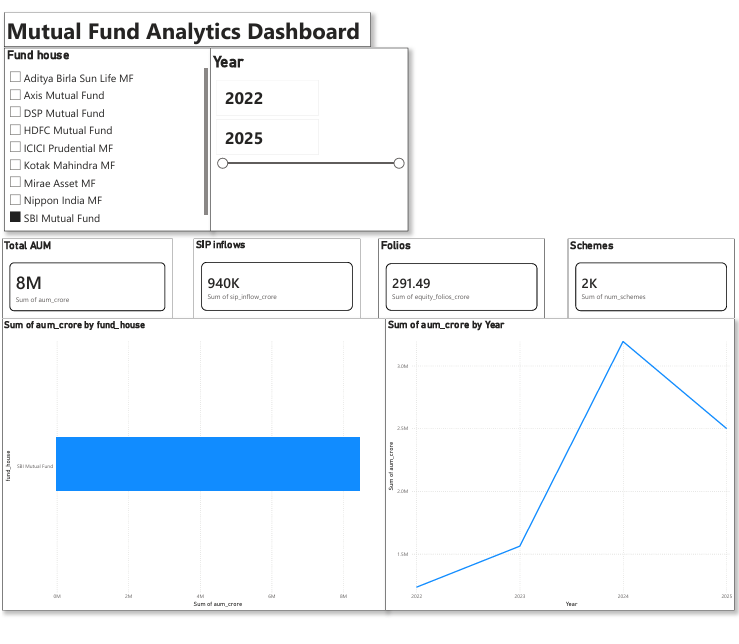

Layout of this report page (visuals, bound fields, positions):
{"tool":"powerbi","page":{"name":"industry overview","canvas":[3840,2160],"ordinal":0},"visuals":[{"type":"cardVisual","title":"Total AUM","fields":{"Data":["Sum(03_aum_by_fund_house.aum_crore)"]},"box":[0,567.5,410,192.5],"z":0},{"type":"cardVisual","title":"SIP inflows","fields":{"Data":["Sum(04_monthly_sip_inflows.sip_inflow_crore)"]},"box":[460,567.5,400,192.5],"z":1000},{"type":"cardVisual","title":"Folios","fields":{"Data":["Sum(06_industry_folio_count.equity_folios_crore)"]},"box":[902.5,567.5,400,192.5],"z":2000},{"type":"cardVisual","title":"Schemes","fields":{"Data":["Sum(03_aum_by_fund_house.num_schemes)"]},"box":[1357.5,567.5,400,192.5],"z":3000},{"type":"clusteredBarChart","fields":{"Category":["03_aum_by_fund_house.fund_house"],"Y":["Sum(03_aum_by_fund_house.aum_crore)"]},"box":[0,760,920,700],"z":4000},{"type":"lineChart","fields":{"Category":["03_aum_by_fund_house.date.Variation.Date Hierarchy.Year","03_aum_by_fund_house.date.Variation.Date Hierarchy.Quarter","03_aum_by_fund_house.date.Variation.Date Hierarchy.Month","03_aum_by_fund_house.date.Variation.Date Hierarchy.Day"],"Y":["Sum(03_aum_by_fund_house.aum_crore)"]},"box":[920,760,837.5,700],"z":5000},{"type":"textbox","box":[5,25,880,82.5],"z":6000},{"type":"slicer","title":"Fund house","fields":{"Values":["03_aum_by_fund_house.fund_house"]},"box":[5,110,495,440],"z":7000},{"type":"slicer","title":"Year","fields":{"Values":["03_aum_by_fund_house.Year"]},"box":[500,110,475,440],"z":8000}]}

Visuals, with their boxes on the page's 3840x2160 design canvas (x1, y1, x2, y2). These are canvas units, not pixel positions in the 739x644 screenshot, which may show the page scaled, cropped or inside an application window:
"Total AUM" cardVisual: x1=0 y1=568 x2=410 y2=760
"SIP inflows" cardVisual: x1=460 y1=568 x2=860 y2=760
"Folios" cardVisual: x1=902 y1=568 x2=1302 y2=760
"Schemes" cardVisual: x1=1358 y1=568 x2=1758 y2=760
clusteredBarChart - 03_aum_by_fund_house.fund_house x Sum(03_aum_by_fund_house.aum_crore): x1=0 y1=760 x2=920 y2=1460
lineChart - 03_aum_by_fund_house.date.Variation.Date Hierarchy.Year x 03_aum_by_fund_house.date.Variation.Date Hierarchy.Quarter: x1=920 y1=760 x2=1758 y2=1460
textbox: x1=5 y1=25 x2=885 y2=108
"Fund house" slicer: x1=5 y1=110 x2=500 y2=550
"Year" slicer: x1=500 y1=110 x2=975 y2=550
